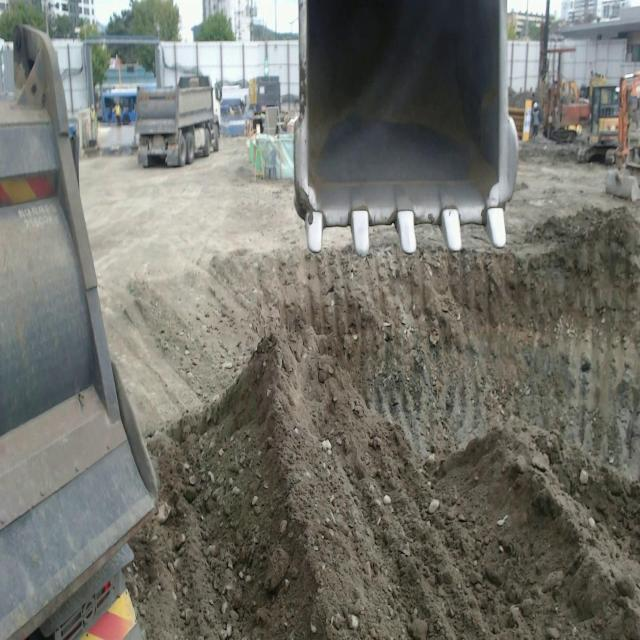red-sand: (130, 207, 640, 639)
